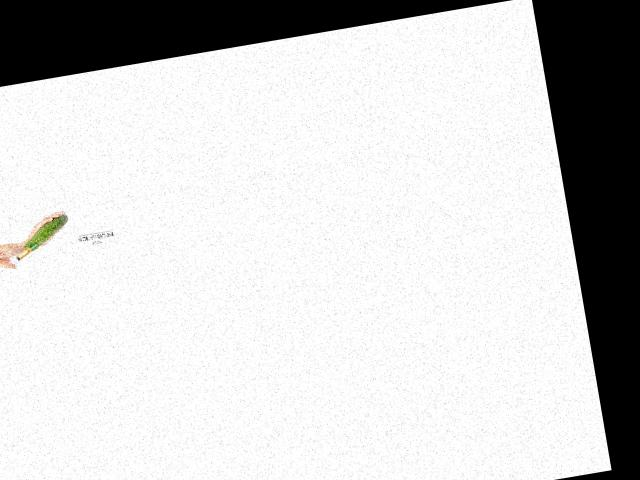cucumber: (20, 214, 71, 252)
